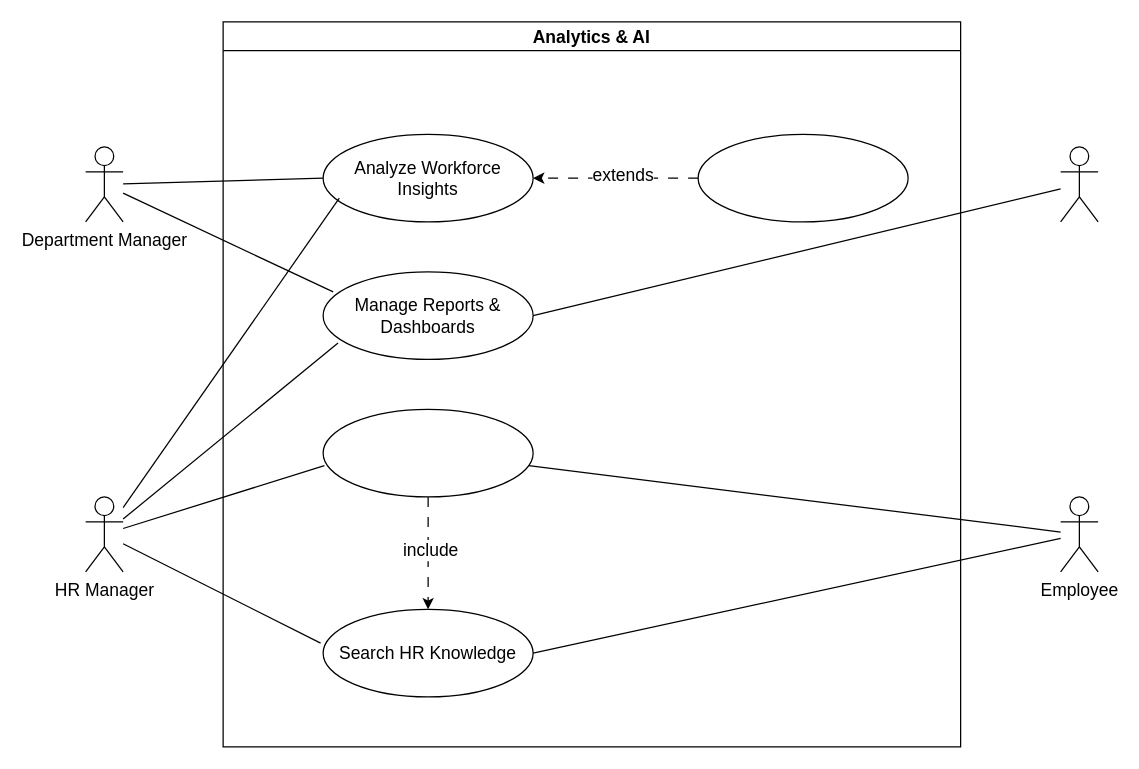
The diagram is 1139 pixels wide and 769 high, and some of its shapes have lost their labels. The shapes that lost their labels are listed below. From the top down, each one's box as (x1, y1, x2, y2) in pixels, then its label:
(697, 133, 908, 222): Generate Recommendations
(1059, 146, 1098, 222): Recruiter
(322, 408, 533, 497): Ask HR Questions
